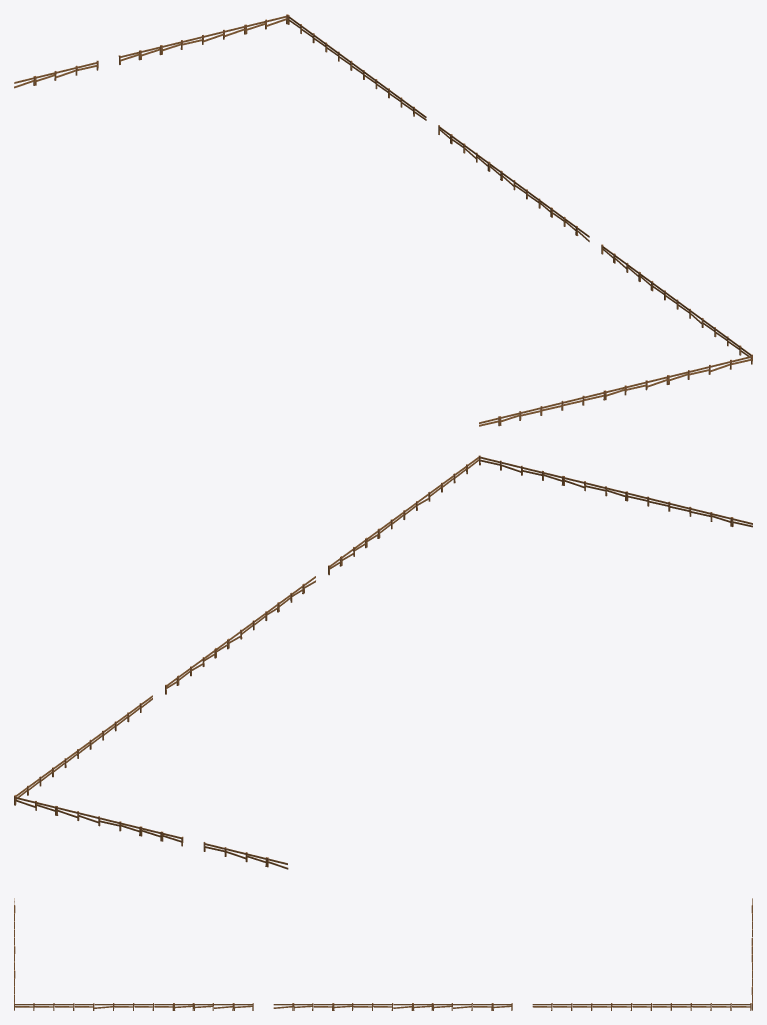
File: Fences.glb
The picture shows the model from 3 angles, top to bottom: view 1: azimuth 30°, elevation 25°; view 2: azimuth 150°, elevation 25°; view 3: azimuth 270°, elevation 25°; orthographic projection. The views are drawn at different scales.
Size of the model in its own units: 25.45 by 0.8381 by 74.82.
Materials: 3 (3 with a texture image).
